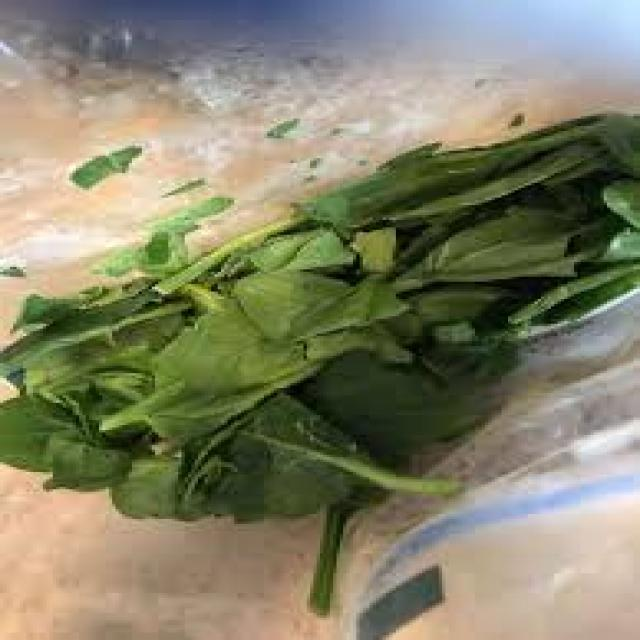organic waste: (287, 114, 637, 218), (92, 381, 363, 514), (102, 279, 320, 440), (297, 341, 495, 470), (0, 277, 191, 393), (284, 334, 475, 444), (386, 202, 584, 292), (0, 385, 165, 492), (145, 208, 340, 292), (211, 262, 396, 336), (89, 192, 238, 276), (307, 457, 363, 615), (501, 267, 637, 326), (248, 225, 380, 277), (492, 284, 636, 329), (419, 319, 518, 383), (340, 222, 419, 282), (584, 109, 637, 180), (567, 215, 637, 264), (63, 141, 135, 178), (597, 173, 637, 232), (155, 176, 201, 200), (260, 116, 294, 138), (0, 259, 23, 277), (501, 108, 518, 124), (350, 156, 363, 166), (307, 156, 317, 168), (320, 124, 333, 131), (300, 176, 317, 180)
